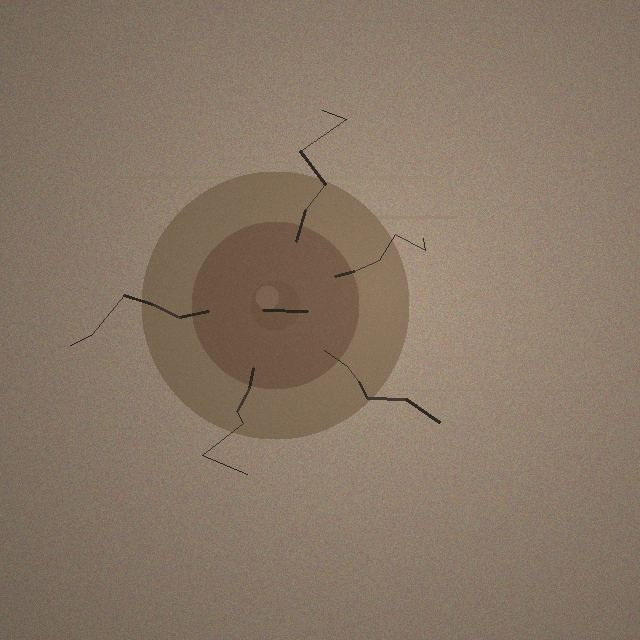crack: (141, 171, 409, 439)
